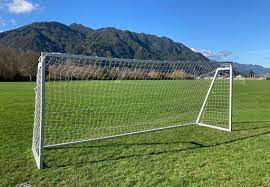goal: (36, 48, 234, 170)
